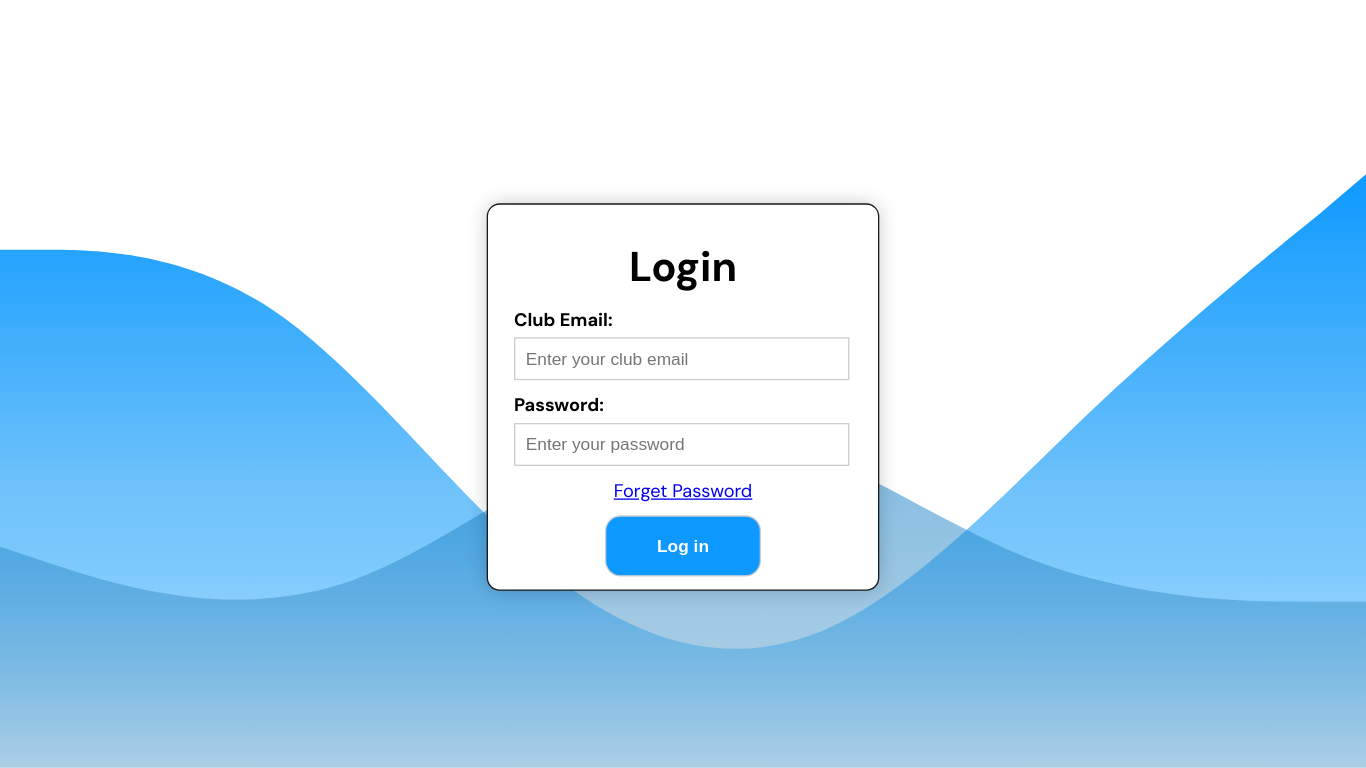
Test: Login Form Validation › should reject the log in due to invalid email, not in the form of ...@...sutd.edu.sg
The width and height of the screenshot is (1366, 768).
Type "test@gmail.com" into the field with placeholder "Enter your club email" at (682, 358), box [514, 337, 849, 380]
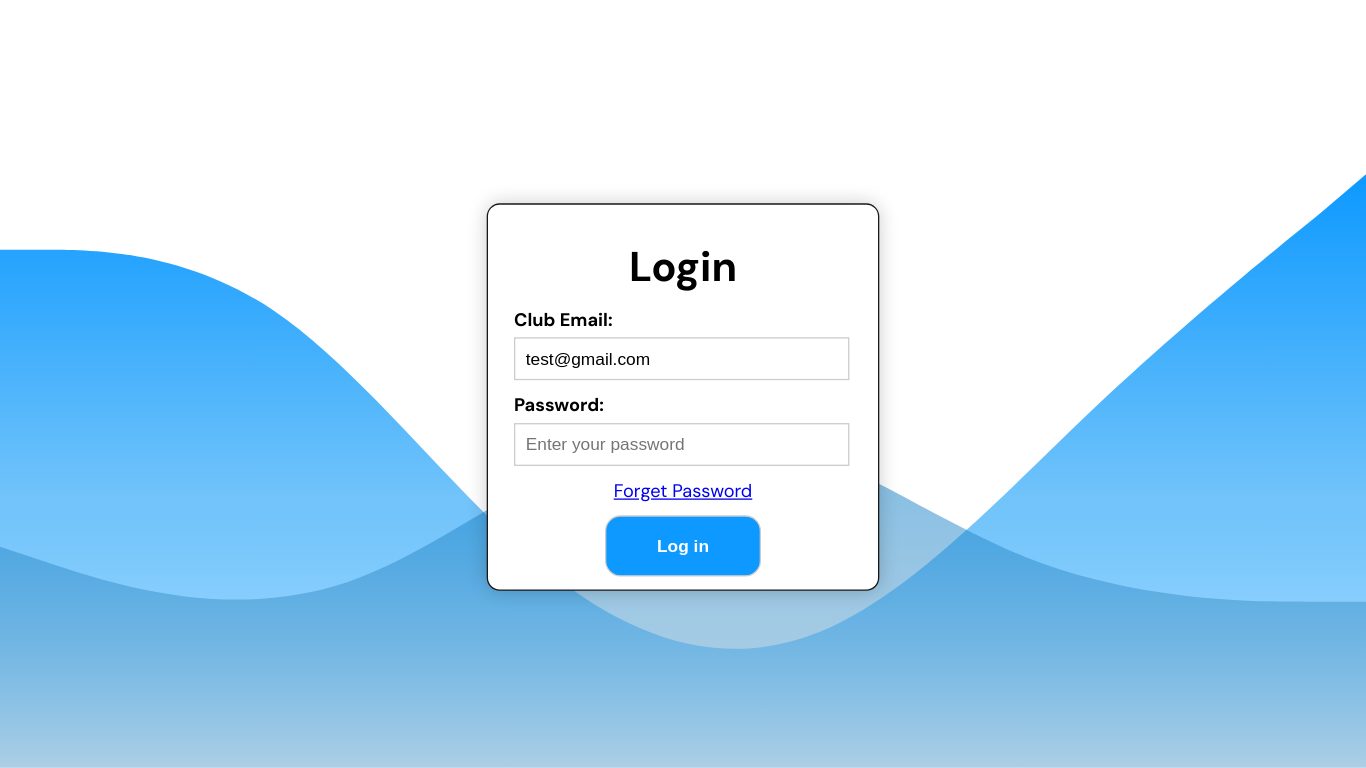
Type "P@ssword1!" into the password field with placeholder "Enter your password" at (682, 444), box [514, 423, 849, 466]
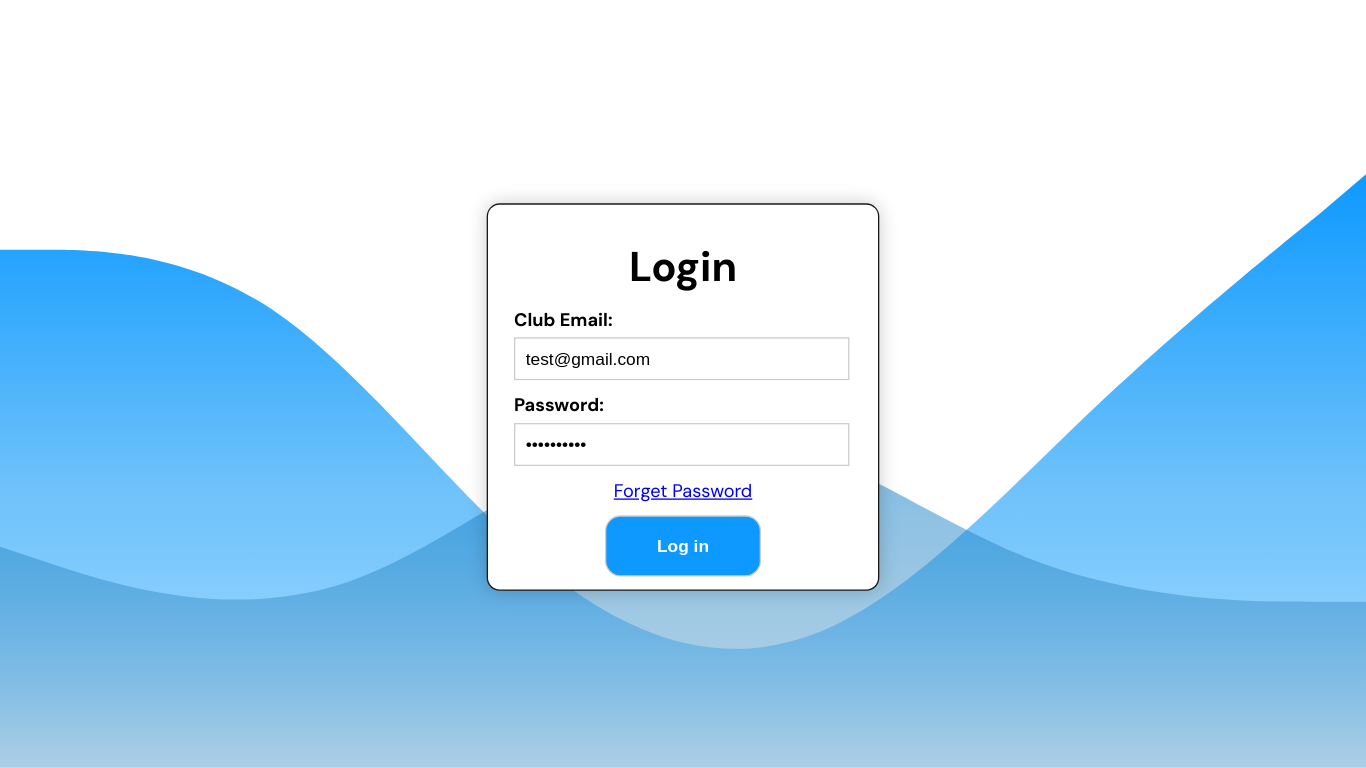
Click the button with test id "Log in" at (683, 546), box [605, 515, 761, 576]
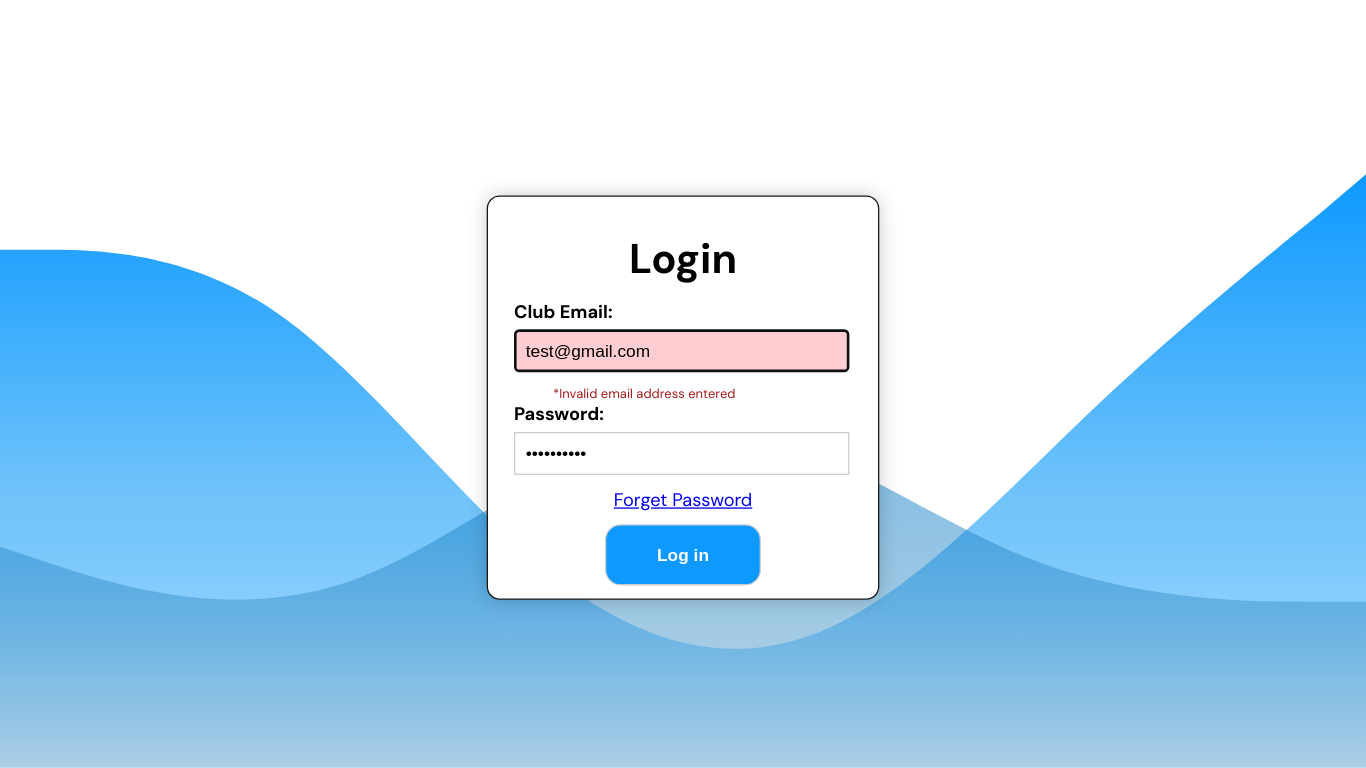
expect the text "*Invalid email address entered" is shown: met, box [553, 384, 735, 401]
